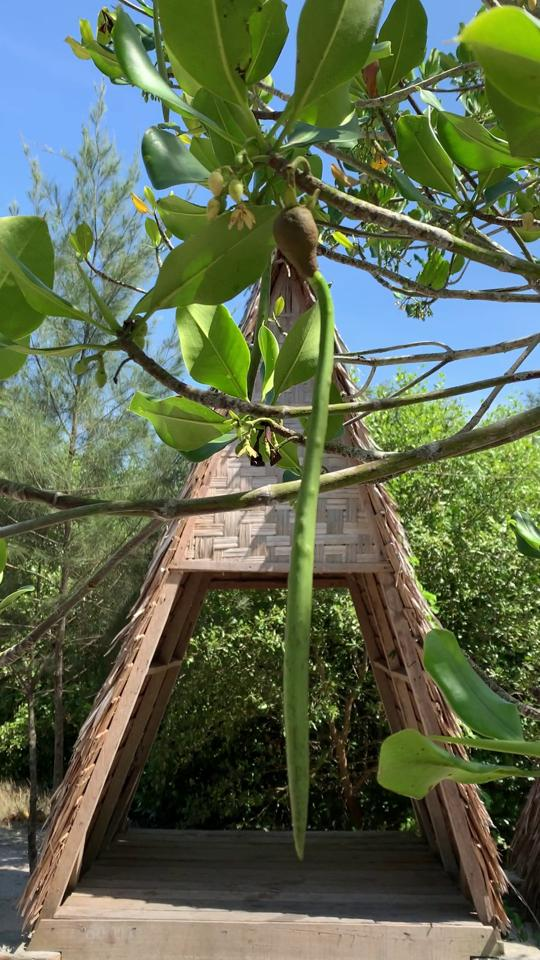setengah matang: (256, 184, 351, 869)
